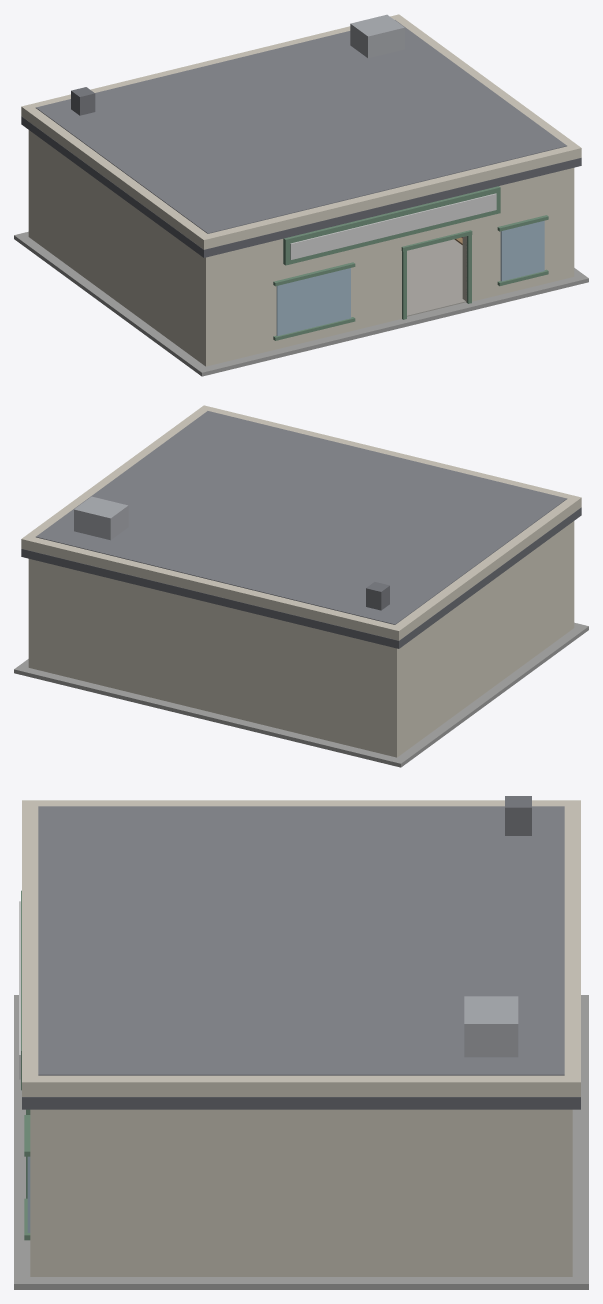
Rendered from Dukkan_Market.glb.
3 views of the same model, one above another, from view 1: azimuth 30°, elevation 25°; view 2: azimuth 150°, elevation 25°; view 3: azimuth 270°, elevation 25° (orthographic). The views are drawn at different scales.
Parts seen in each view (by area): view 1: Dukkan_Market; view 2: Dukkan_Market; view 3: Dukkan_Market.
Boxes of the visible parts, left/top/right/bottom form: Dukkan_Market: left=14, top=14, right=588, bottom=376; Dukkan_Market: left=14, top=405, right=588, bottom=767; Dukkan_Market: left=14, top=796, right=588, bottom=1289.
Size of the model in its own units: 12.6 by 4.85 by 10.6.
